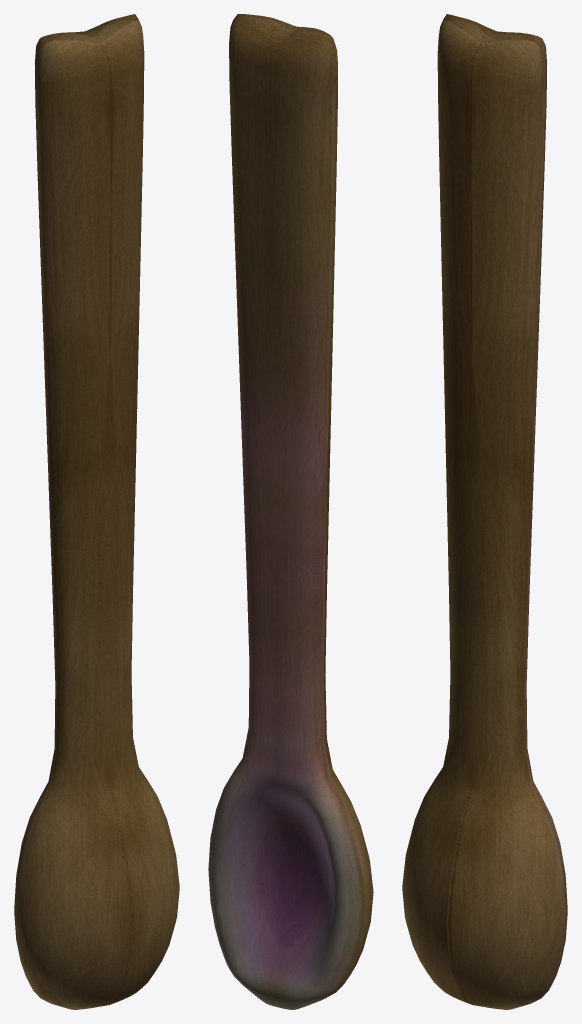
Rendered from Spoon_002.fbx.
The picture shows the model from 3 angles, left to right: view 1: azimuth 30°, elevation 25°; view 2: azimuth 150°, elevation 25°; view 3: azimuth 330°, elevation 25°; orthographic projection.
Parts seen in each view (by area): view 1: Spoon.002; view 2: Spoon.002; view 3: Spoon.002.
Part boxes in pixels (x1,y1,x2,y2): Spoon.002: (14, 14, 179, 1009); Spoon.002: (208, 14, 373, 1009); Spoon.002: (402, 14, 567, 1009).
Bounding box in the file's own units: 13.66 × 82.07 × 8.62.
